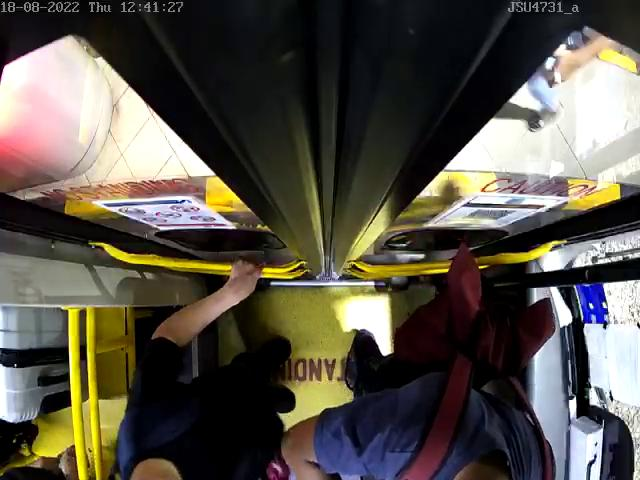close: (0, 0, 640, 206)
